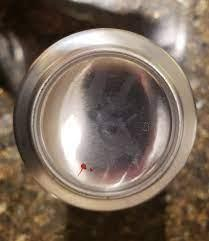metal: (14, 26, 199, 211)
